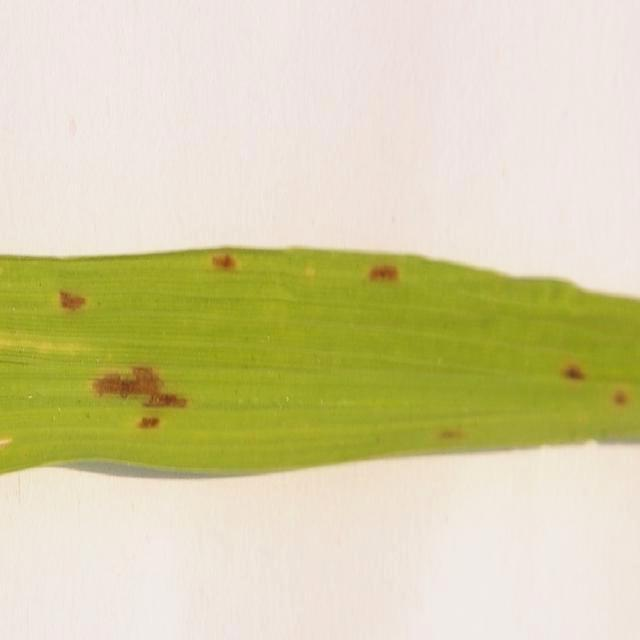Brownspot: (93, 366, 186, 407), (93, 367, 161, 397), (144, 393, 186, 407), (59, 291, 85, 309), (369, 265, 397, 280), (212, 254, 235, 270), (562, 363, 584, 379), (612, 389, 628, 406), (137, 416, 159, 428), (439, 429, 463, 439)
